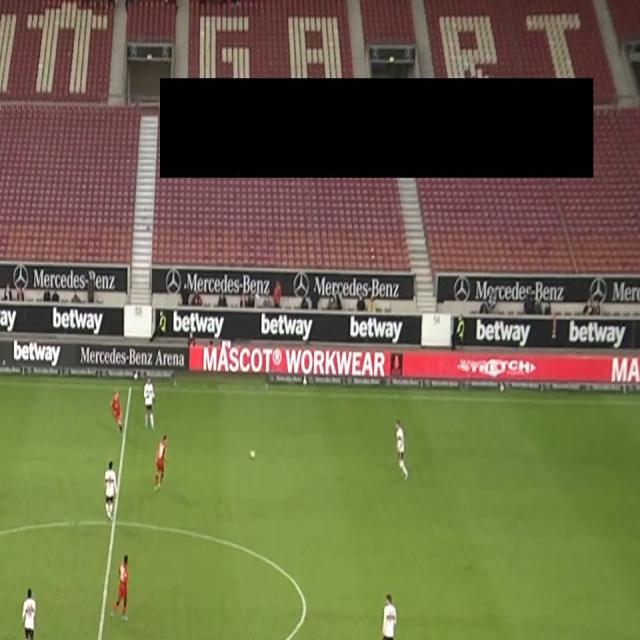ball: (248, 448, 256, 460)
